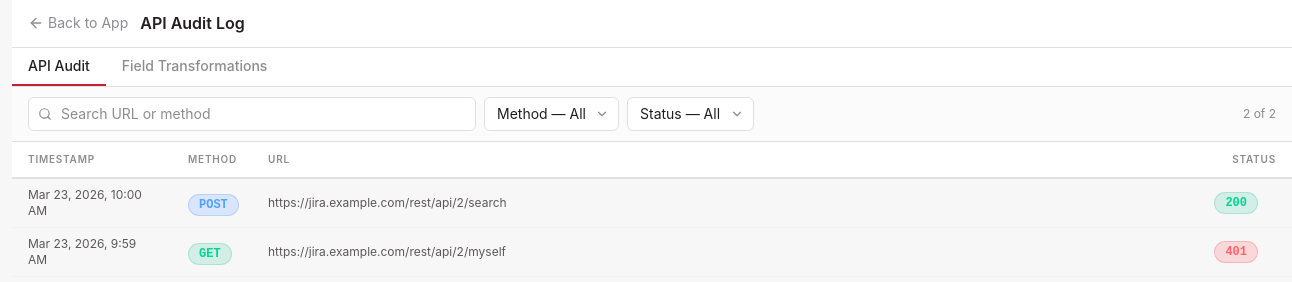
Test: AuditLogPage › filter toolbar › search filters by URL substring (case-insensitive)
Expected: the text "POST" is shown, [188,194,239,216]
Type "MYSELF" into the search field labelled "Search URL or method".
click(252, 114); type("MYSELF")  # box [28,97,476,131]
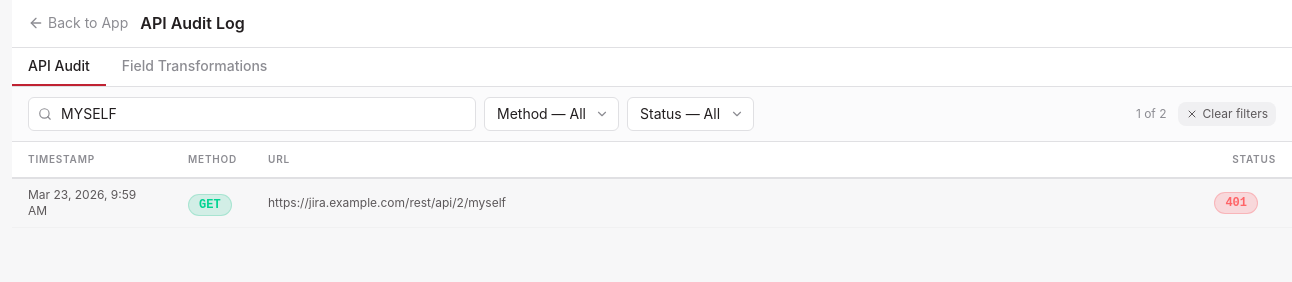
Expected: the text "GET" is shown, [188,194,232,216]
Expected: the button "POST" is gone
